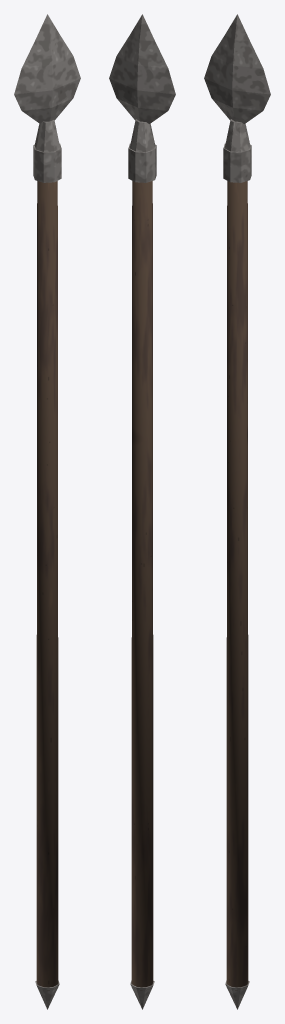
The model's file is decorative_spear.glb.
3 views of the same model, side by side, from view 1: azimuth 30°, elevation 25°; view 2: azimuth 150°, elevation 25°; view 3: azimuth 330°, elevation 25° (orthographic).
Visible parts, largest first — view 1: decorative_spear_wooden_shaft, decorative_spear_iron_spearhead; view 2: decorative_spear_wooden_shaft, decorative_spear_iron_spearhead; view 3: decorative_spear_wooden_shaft, decorative_spear_iron_spearhead.
Boxes of the visible parts, x1=… form: decorative_spear_wooden_shaft: x1=36, y1=181, x2=58, y2=990; decorative_spear_iron_spearhead: x1=14, y1=14, x2=80, y2=1009; decorative_spear_wooden_shaft: x1=131, y1=181, x2=153, y2=990; decorative_spear_iron_spearhead: x1=109, y1=14, x2=175, y2=1009; decorative_spear_wooden_shaft: x1=226, y1=181, x2=248, y2=990; decorative_spear_iron_spearhead: x1=204, y1=14, x2=270, y2=1009.
Size of the model in its own units: 0.116 by 1.65 by 0.044.
Materials: 2 (2 with a texture image).
